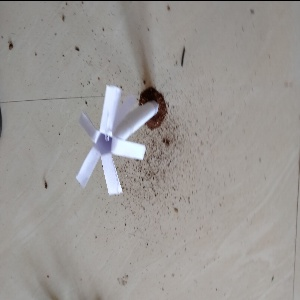weed: (72, 84, 164, 194)
